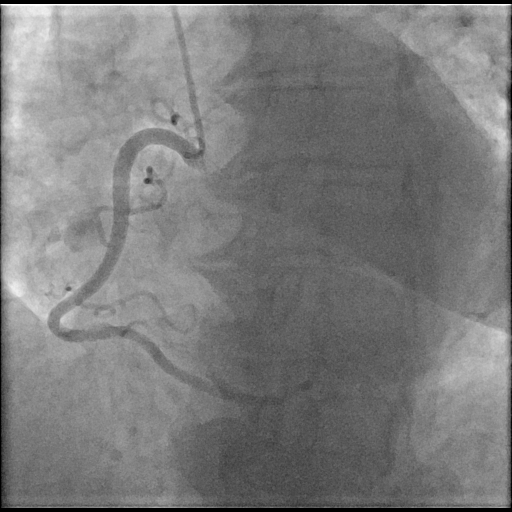RCA: (48, 129, 312, 407)
catherter: (173, 5, 205, 158)
